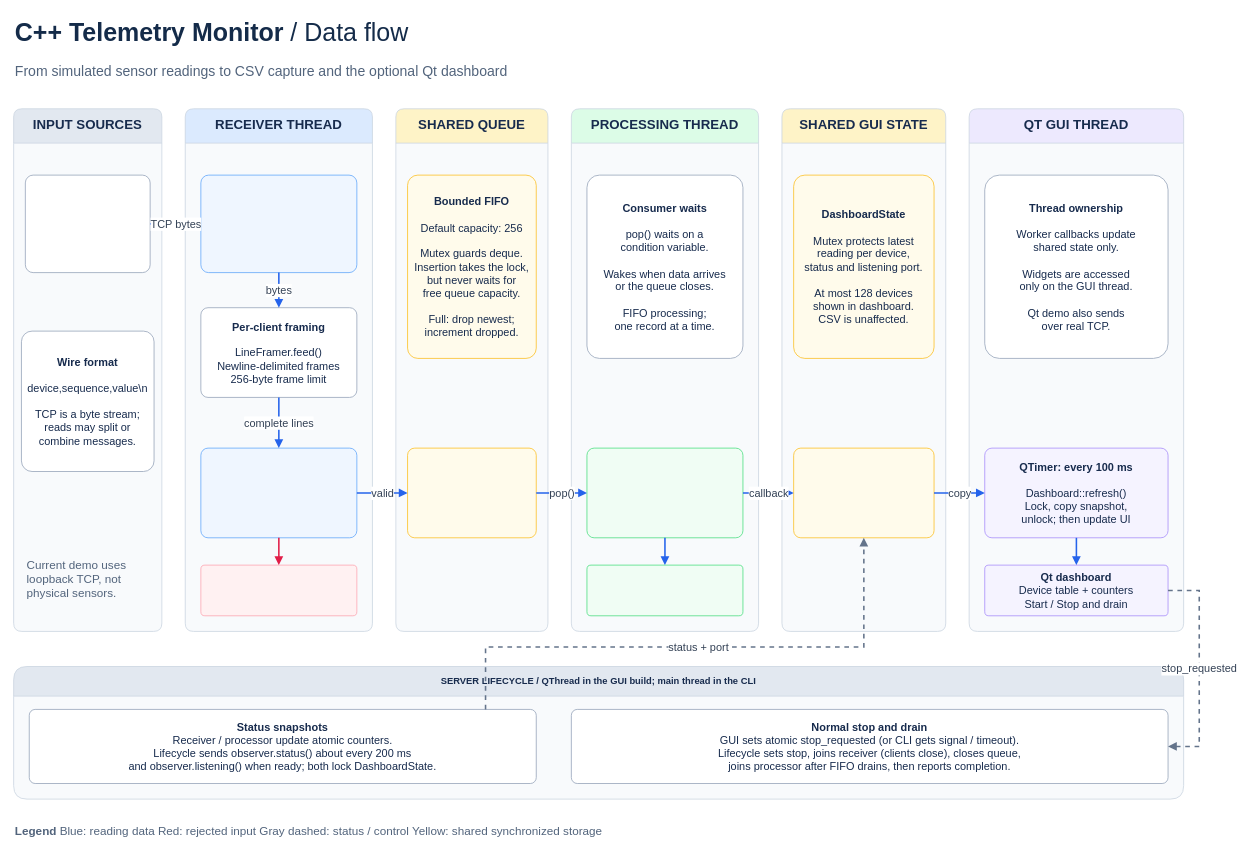
The diagram is 1250 pixels wide and 855 high, and some of its shapes have lost their labels. Here are the shapes that lost their labels. From the top down, the centre of each, then its label:
pixel 87 223: Simulated sensors Python simulator or Qt demo sender
pixel 278 223: TCP receiver 127.0.0.1 : port select() + recv() Up to 32 clients
pixel 278 492: Validate + timestamp parse_reading(line) Set received_ms try_push(reading)
pixel 471 492: Reading queue Successful push: notify_one()
pixel 664 492: Process reading Write + flush CSV Increment processed Call observer.reading()
pixel 863 492: Latest readings observer.reading() updates latest[device] under the state mutex
pixel 278 590: Invalid / oversized Count malformed frames; close oversized client.
pixel 664 590: CSV capture received_ms, device, sequence, value
